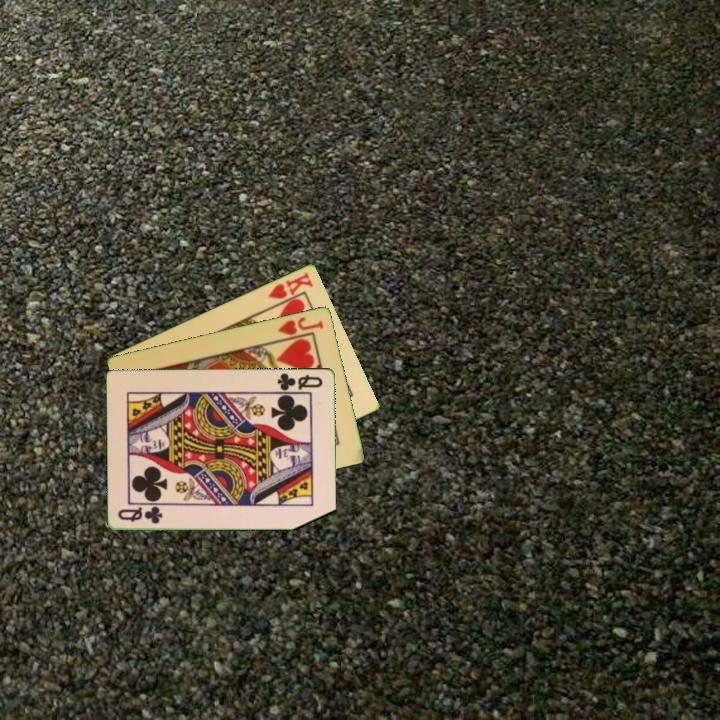Jh: (274, 313, 327, 338)
Kh: (264, 268, 316, 310)
Qc: (274, 369, 325, 393), (115, 504, 166, 526)
